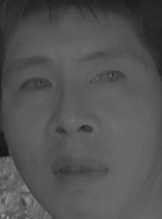eye: (88, 65, 130, 91), (16, 73, 56, 99)
mouth: (45, 152, 113, 189)
